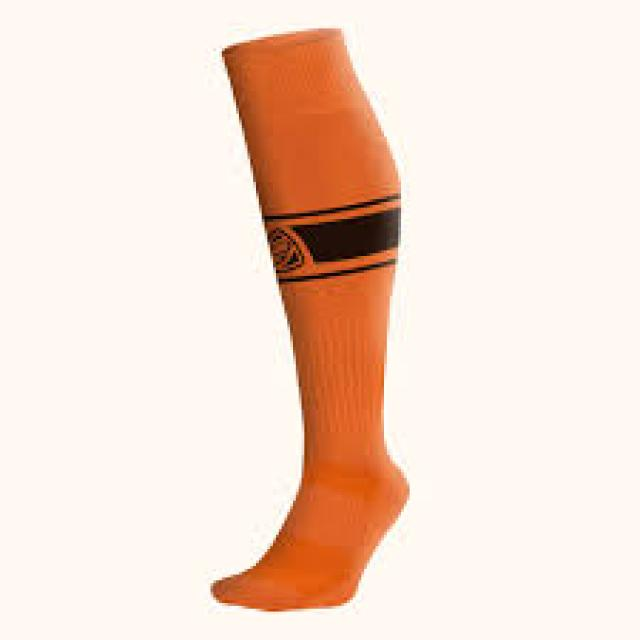sock: (208, 26, 410, 612)
